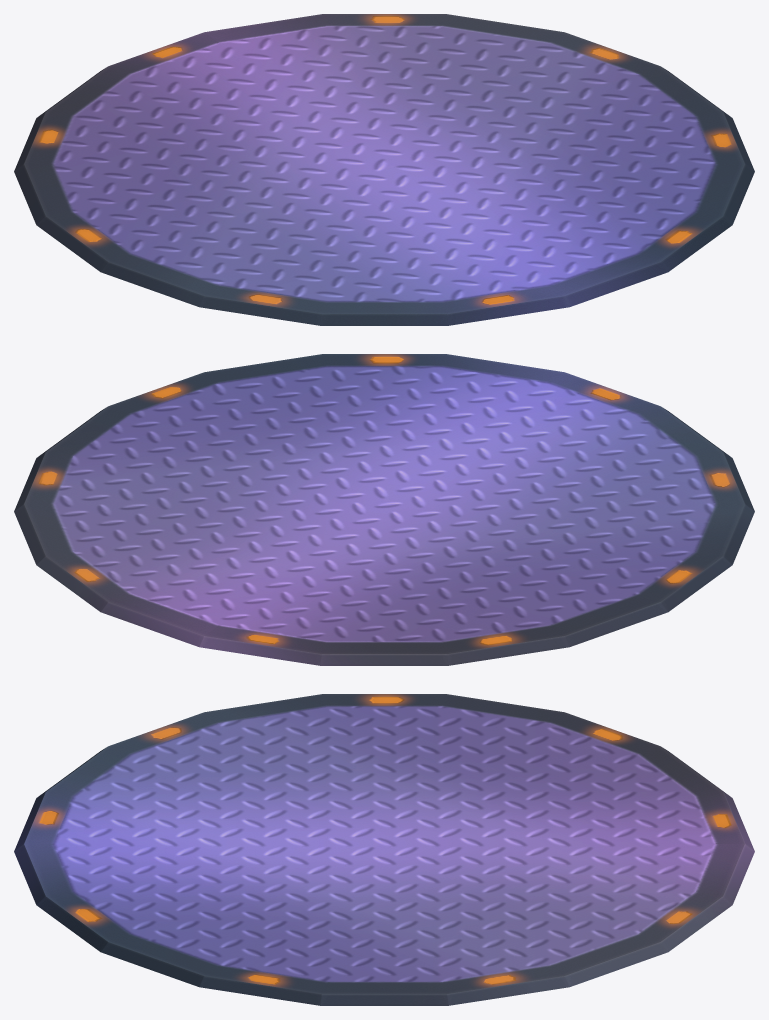
Rendered from rotating_platform.fbx.
The picture shows the model from 3 angles, top to bottom: view 1: azimuth 30°, elevation 25°; view 2: azimuth 150°, elevation 25°; view 3: azimuth 270°, elevation 25°; orthographic projection.
Visible parts, largest first — view 1: Cylinder.034; view 2: Cylinder.034; view 3: Cylinder.034.
Boxes of the visible parts, <box> form: Cylinder.034: <box>14,14,754,325</box>; Cylinder.034: <box>14,354,754,665</box>; Cylinder.034: <box>14,694,754,1005</box>.
Bounding box in the file's own units: 972 × 11.03 × 987.
